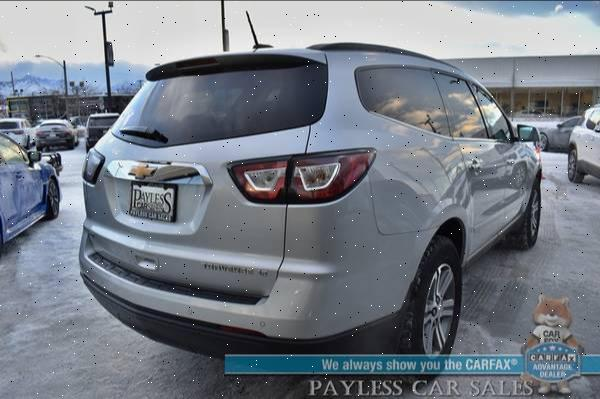Front_Right_Door: (498, 142, 538, 231)
Front_Right_Window: (470, 83, 524, 143)
Left_Taillight: (82, 144, 104, 185)
Rear_Bumper: (78, 170, 431, 358)
Rear_Fender: (306, 65, 462, 235)
Rear_Right_Door: (455, 139, 507, 259)
Rear_Right_Window: (434, 69, 492, 139)
Rear_Windshield: (108, 53, 327, 148)
Right_Taillight: (224, 149, 375, 209)
Roof: (190, 40, 486, 120)
Tailgate: (84, 125, 309, 293)
Wheel: (407, 236, 465, 375), (520, 188, 542, 249)
